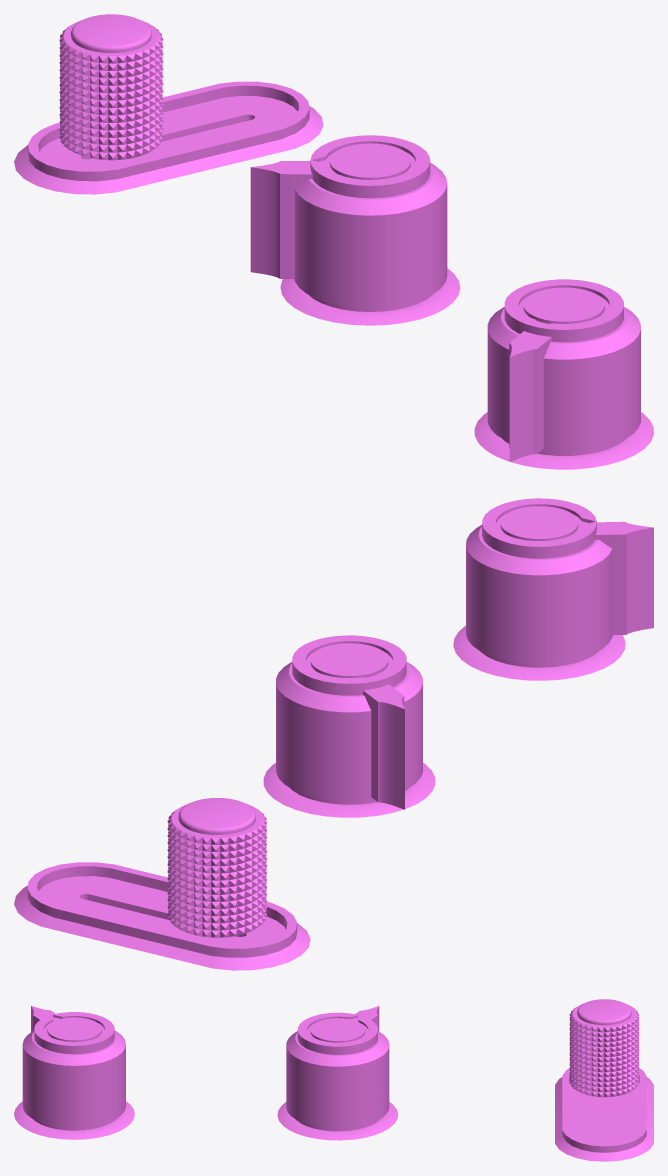
Rendered from Unikko_Button_B.glb.
The picture shows the model from 3 angles, top to bottom: view 1: azimuth 30°, elevation 25°; view 2: azimuth 150°, elevation 25°; view 3: azimuth 270°, elevation 25°; orthographic projection. The views are drawn at different scales.
Parts seen in each view (by area): view 1: Unikko_Button_B; view 2: Unikko_Button_B; view 3: Unikko_Button_B.
Part boxes in pixels (<box>): Unikko_Button_B: <box>14,14,653,469</box>; Unikko_Button_B: <box>14,498,653,970</box>; Unikko_Button_B: <box>14,999,653,1161</box>.
Bounding box in the file's own units: 0.0339 × 0.0154 × 0.0965.
